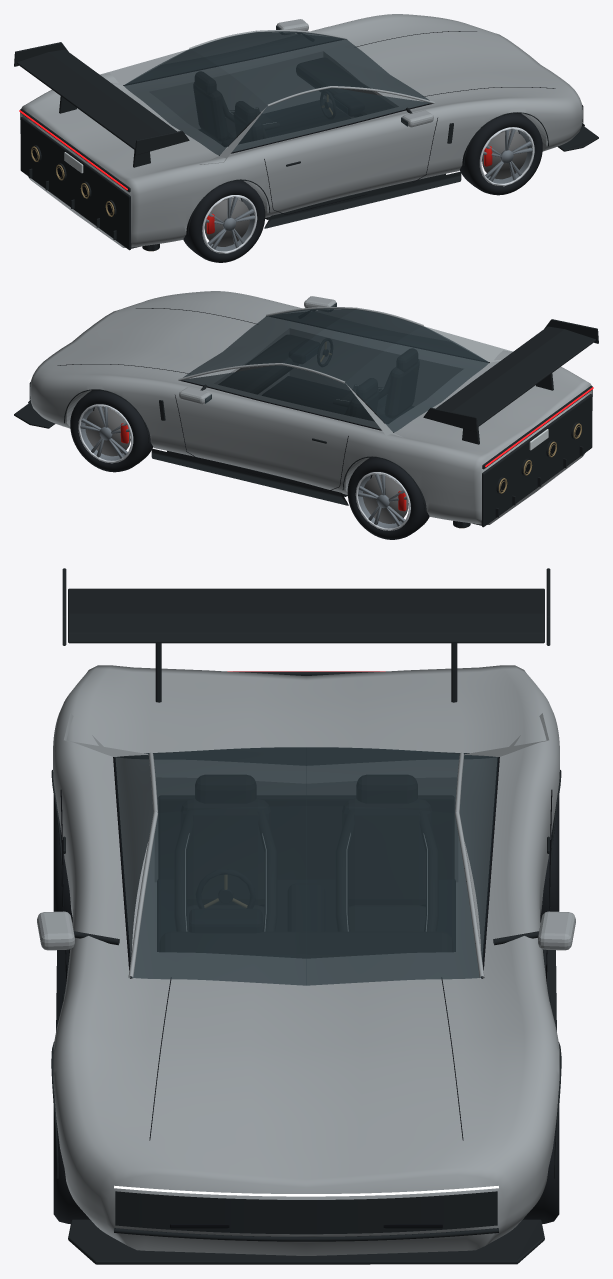
File: car_silver.glb
3 views of the same model, one above another, from view 1: azimuth 30°, elevation 25°; view 2: azimuth 150°, elevation 25°; view 3: azimuth 270°, elevation 25° (orthographic). The views are drawn at different scales.
Parts seen in each view (by area): view 1: CarBody, AeroWing, Wheel_Front_Right, Wheel_Rear_Right; view 2: CarBody, AeroWing, Wheel_Front_Left, Wheel_Rear_Left; view 3: CarBody, AeroWing, Wheel_Front_Right, Wheel_Front_Left, Wheel_Rear_Left, Wheel_Rear_Right.
Boxes of the visible parts, x1,y1,x2,y2 form: CarBody: (19, 14, 598, 251); AeroWing: (14, 42, 189, 155); Wheel_Front_Right: (459, 113, 542, 195); Wheel_Rear_Right: (183, 180, 265, 262); CarBody: (14, 291, 593, 528); AeroWing: (423, 319, 598, 432); Wheel_Front_Left: (70, 390, 152, 472); Wheel_Rear_Left: (347, 457, 429, 539); CarBody: (37, 643, 575, 1264); AeroWing: (62, 568, 550, 645); Wheel_Front_Right: (53, 1108, 89, 1223); Wheel_Front_Left: (523, 1108, 559, 1223); Wheel_Rear_Left: (540, 795, 559, 922); Wheel_Rear_Right: (53, 795, 72, 922).
Bounding box in the file's own units: 4.62 × 1.34 × 2.27.
